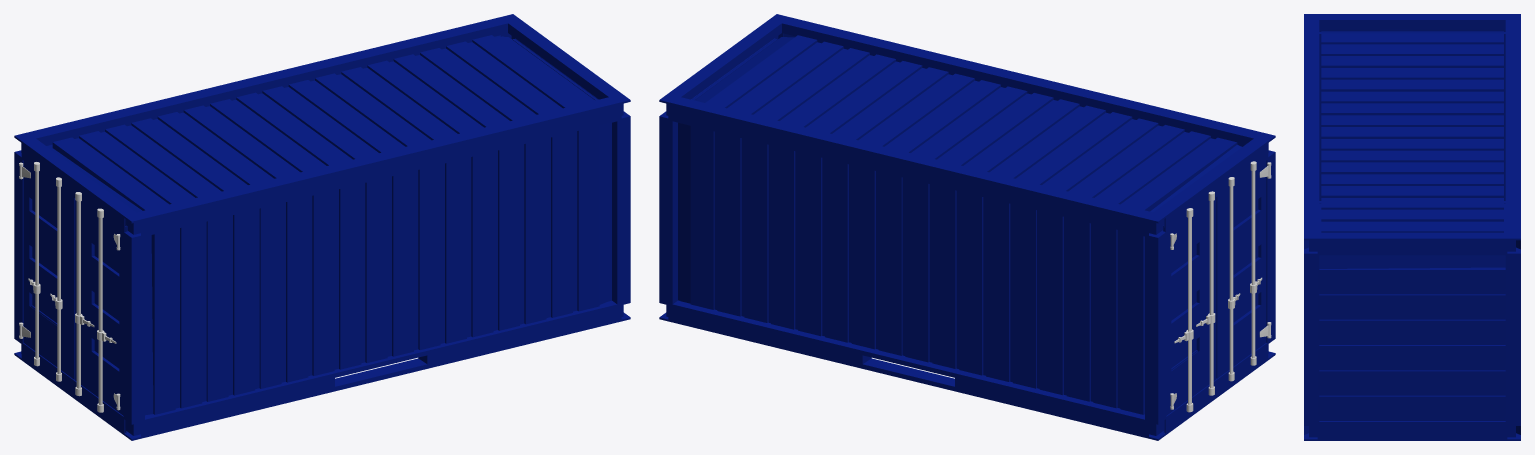
The model's file is DarkBlueContainer.fbx.
The picture shows the model from 3 angles, left to right: view 1: azimuth 30°, elevation 25°; view 2: azimuth 150°, elevation 25°; view 3: azimuth 270°, elevation 25°; orthographic projection. The views are drawn at different scales.
Visible parts, largest first — view 1: Cube.003, Cube, Cube.009, Cube.005, Cylinder.001; view 2: Cube.002, Cube, Cube.009, Cube.005, Cylinder.001; view 3: Cube.009, Cube.008, Cube, Cube.005.
Part boxes in pixels (x1,y1,x2,y2): Cube.003: (145, 122, 611, 415); Cube: (14, 14, 630, 440); Cube.009: (50, 35, 594, 212); Cube.005: (23, 161, 127, 415); Cylinder.001: (28, 162, 116, 412); Cube.002: (678, 122, 1144, 414); Cube: (659, 14, 1275, 440); Cube.009: (695, 35, 1241, 212); Cube.005: (1163, 161, 1266, 415); Cylinder.001: (1174, 161, 1262, 412); Cube.009: (1321, 31, 1503, 232); Cube.008: (1318, 255, 1505, 424); Cube: (1304, 14, 1520, 440); Cube.005: (1319, 29, 1505, 200).
Size of the model in its own units: 508 by 210 by 204.
